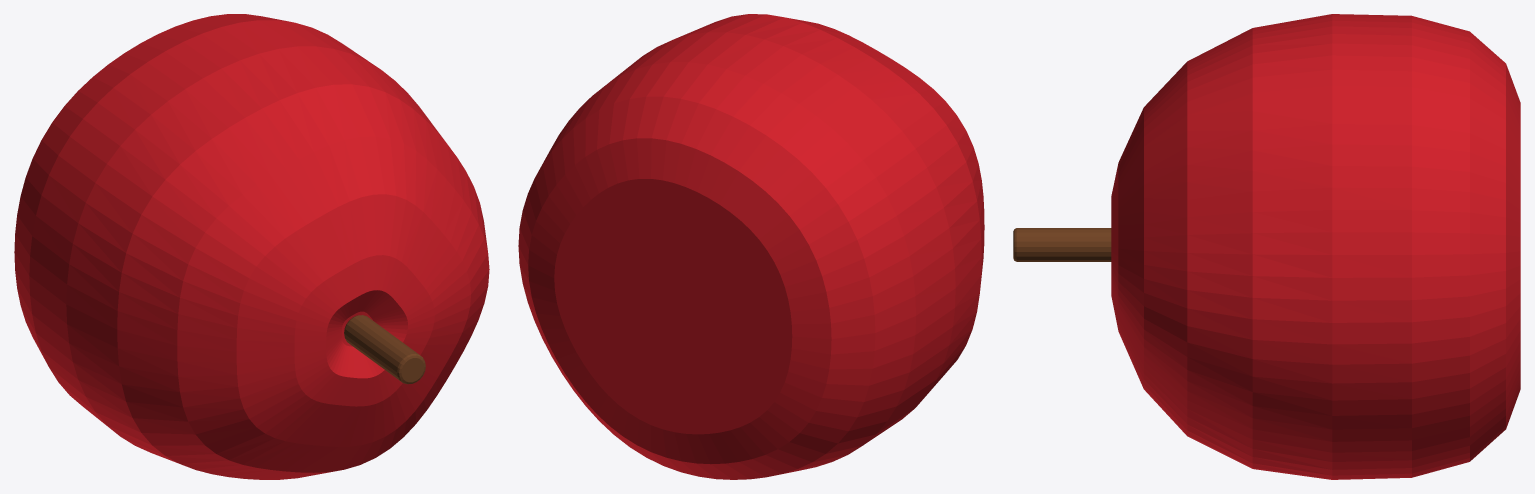
File: apple.obj
The picture shows the model from 3 angles, left to right: view 1: azimuth 30°, elevation 25°; view 2: azimuth 150°, elevation 25°; view 3: azimuth 270°, elevation 25°; orthographic projection. The views are drawn at different scales.
Size of the model in its own units: 0.0643 by 0.0643 by 0.07.
Materials: 1 (1 with a texture image).
